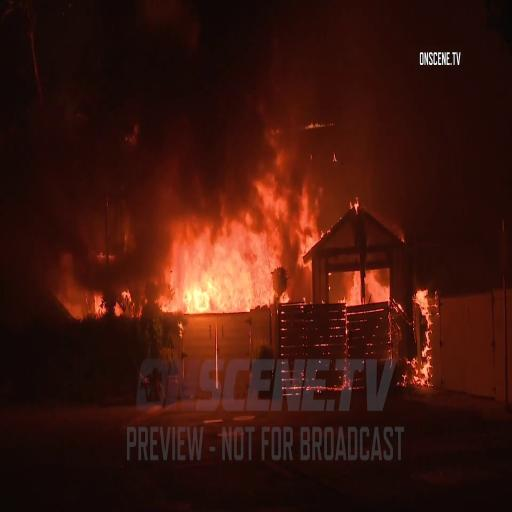fire: (170, 223, 273, 308)
